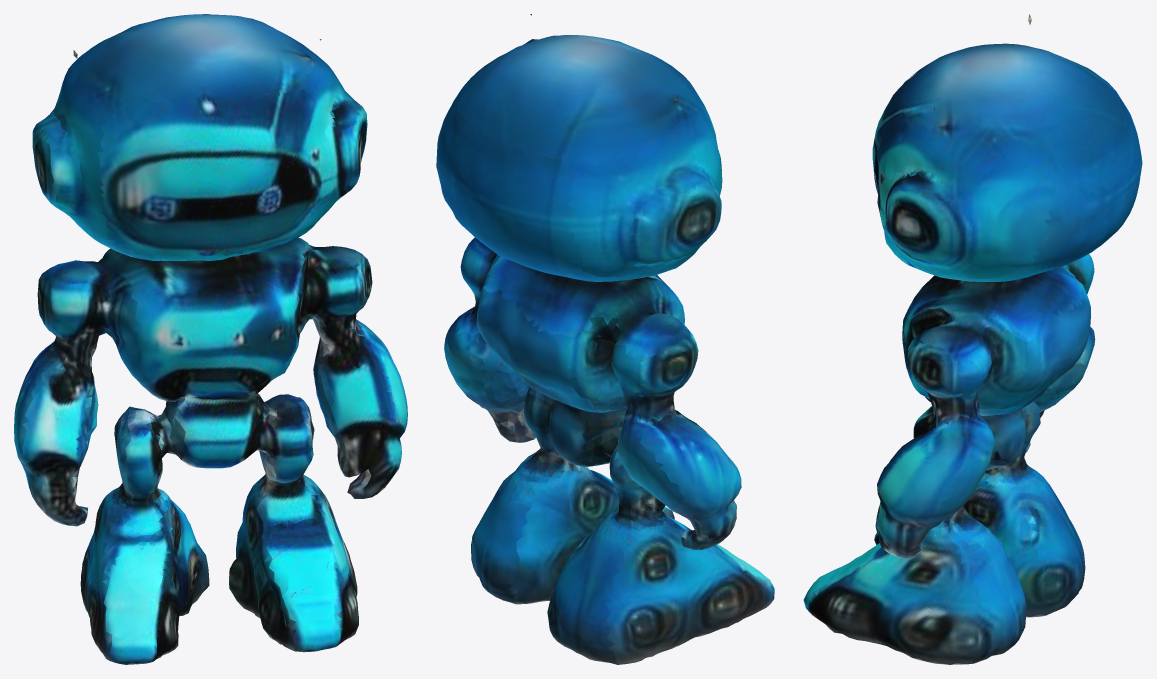
The model's file is a_sleek_blue_robot.glb.
The picture shows the model from 3 angles, left to right: view 1: azimuth 30°, elevation 25°; view 2: azimuth 150°, elevation 25°; view 3: azimuth 270°, elevation 25°; orthographic projection. The views are drawn at different scales.
Visible parts, largest first — view 1: world; view 2: world; view 3: world.
Part boxes in pixels (<box>): world: <box>14,14,407,664</box>; world: <box>436,14,774,664</box>; world: <box>803,14,1142,664</box>.
Bounding box in the file's own units: 0.5389 × 0.8924 × 0.4913.
1 material, 1 textured.
